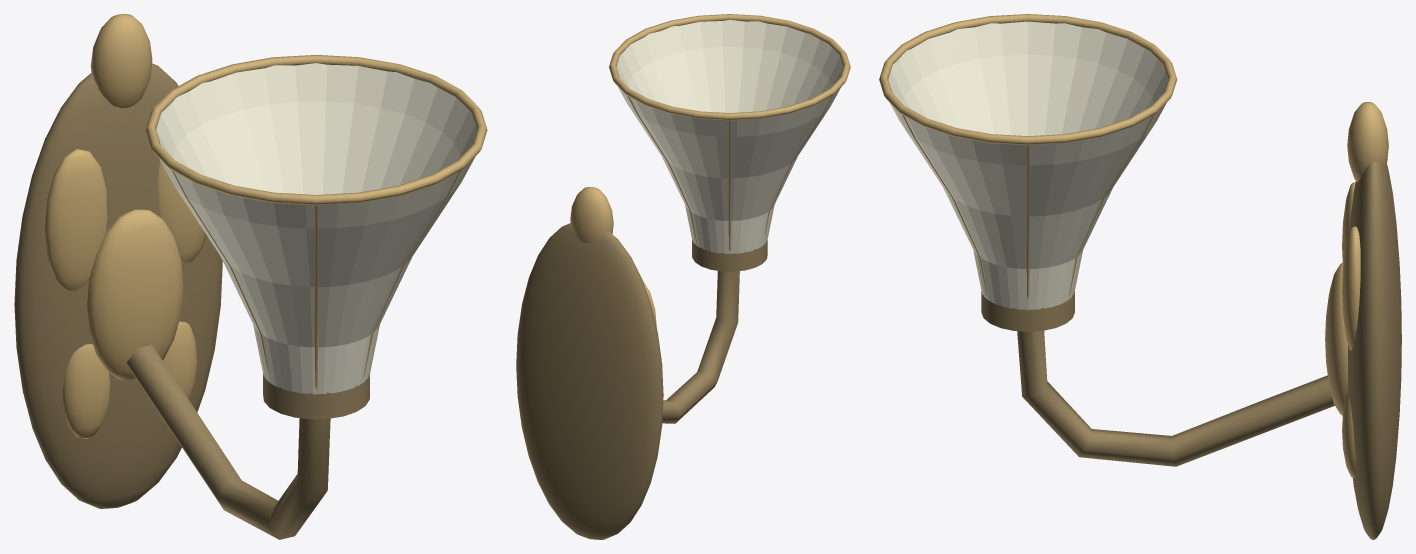
Rendered from fixture_victorian_sconce.glb.
The picture shows the model from 3 angles, left to right: view 1: azimuth 30°, elevation 25°; view 2: azimuth 150°, elevation 25°; view 3: azimuth 270°, elevation 25°; orthographic projection. The views are drawn at different scales.
Parts seen in each view (by area): view 1: Tulip frosted glass shade, Oval bronze wall mounting plate, Decorative plate central boss, Curving Victorian wall arm, Flared shade bronze lip, Wallplate leaf relief, Wallplate top finial, Lower wallplate leaf relief, Shade socket, Wallplate leaf relief.001, Lower wallplate leaf relief.001, Shade floral rib 5; view 2: Oval bronze wall mounting plate, Tulip frosted glass shade, Flared shade bronze lip, Curving Victorian wall arm, Wallplate top finial, Shade socket; view 3: Tulip frosted glass shade, Oval bronze wall mounting plate, Curving Victorian wall arm, Flared shade bronze lip, Decorative plate central boss, Wallplate top finial, Shade socket, Wallplate leaf relief.001, Lower wallplate leaf relief.001.
Part boxes in pixels (bbox=[...]): Tulip frosted glass shade: bbox=[156, 63, 476, 394]; Oval bronze wall mounting plate: bbox=[14, 63, 222, 508]; Decorative plate central boss: bbox=[87, 209, 183, 380]; Curving Victorian wall arm: bbox=[126, 344, 330, 539]; Flared shade bronze lip: bbox=[145, 55, 487, 205]; Wallplate leaf relief: bbox=[44, 149, 107, 290]; Wallplate top finial: bbox=[90, 14, 152, 108]; Lower wallplate leaf relief: bbox=[62, 344, 110, 438]; Shade socket: bbox=[263, 374, 369, 419]; Wallplate leaf relief.001: bbox=[158, 160, 206, 262]; Lower wallplate leaf relief.001: bbox=[162, 321, 197, 400]; Shade floral rib 5: bbox=[314, 205, 318, 389]; Oval bronze wall mounting plate: bbox=[516, 223, 663, 539]; Tulip frosted glass shade: bbox=[616, 20, 843, 253]; Flared shade bronze lip: bbox=[609, 14, 850, 120]; Curving Victorian wall arm: bbox=[662, 271, 739, 423]; Wallplate top finial: bbox=[570, 187, 613, 242]; Shade socket: bbox=[692, 239, 767, 271]; Tulip frosted glass shade: bbox=[888, 21, 1167, 309]; Oval bronze wall mounting plate: bbox=[1347, 162, 1401, 539]; Curving Victorian wall arm: bbox=[1017, 330, 1334, 466]; Flared shade bronze lip: bbox=[879, 14, 1177, 145]; Decorative plate central boss: bbox=[1325, 262, 1347, 415]; Wallplate top finial: bbox=[1347, 102, 1388, 182]; Shade socket: bbox=[981, 291, 1074, 331]; Wallplate leaf relief.001: bbox=[1342, 226, 1360, 350]; Lower wallplate leaf relief.001: bbox=[1342, 392, 1355, 477].
Bounding box in the file's own units: 0.229 × 0.389 × 0.4015.
